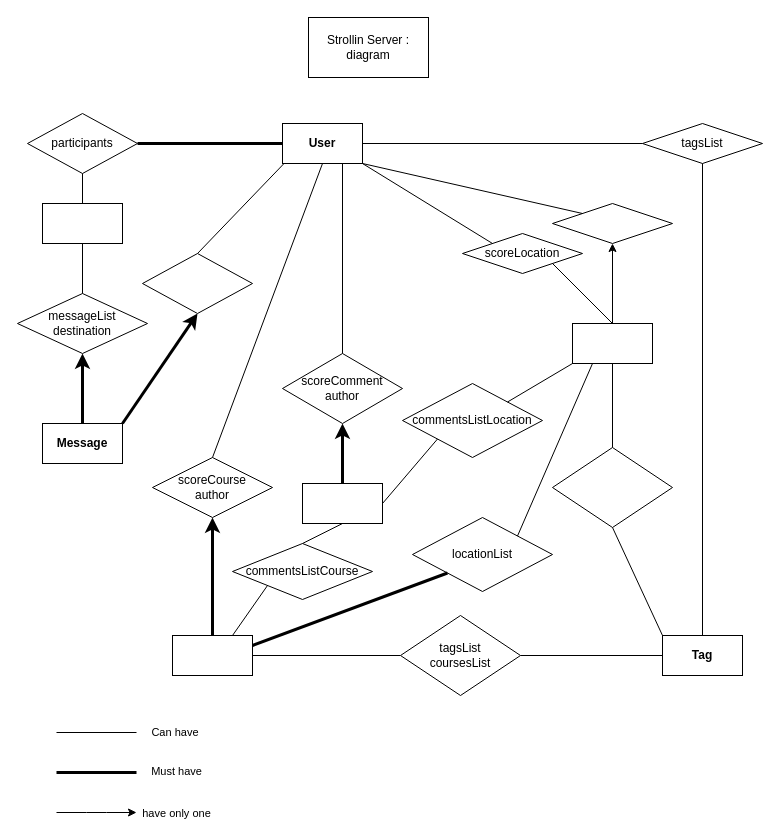
Some shapes in this 780 by 838 pixel diagram are drawn without their labels. Here are the shapes that lost their labels. From the top down, the box of each, then its label:
(42, 202, 122, 244): Conversation
(552, 202, 672, 244): owner
(142, 252, 252, 314): expeditor
(572, 322, 652, 364): Location
(302, 482, 382, 524): Comment
(552, 446, 672, 528): tagsList locationsList
(172, 634, 252, 676): Course
